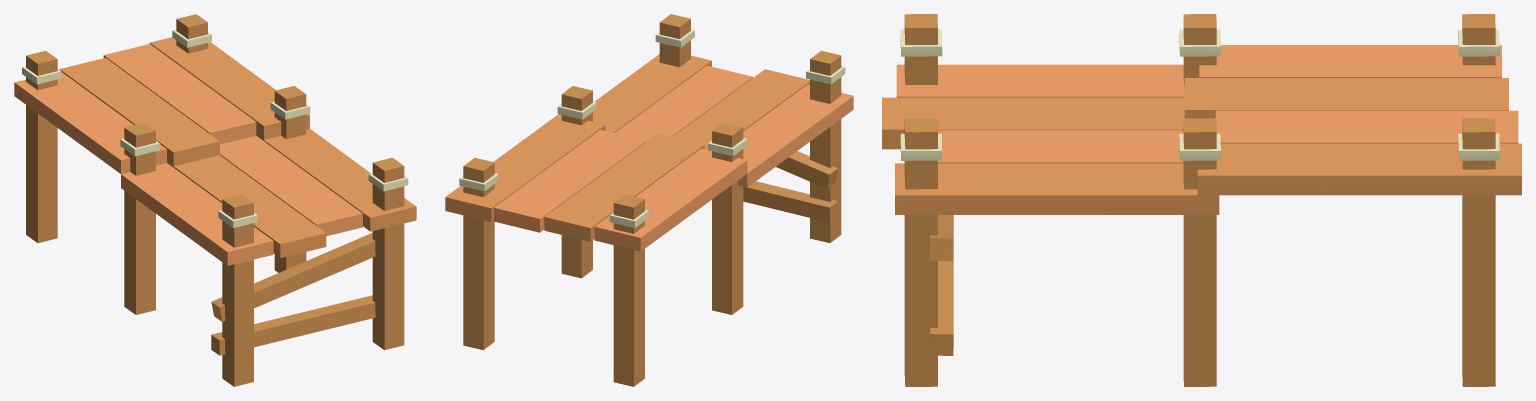
File: bridge.fbx
3 renders of one model, left to right at view 1: azimuth 30°, elevation 25°; view 2: azimuth 150°, elevation 25°; view 3: azimuth 270°, elevation 25°, orthographic. The views are drawn at different scales.
Visible parts, largest first — view 1: ST_bridge; view 2: ST_bridge; view 3: ST_bridge.
Boxes of the visible parts, left/top/right/bottom form: ST_bridge: left=14, top=14, right=416, bottom=386; ST_bridge: left=445, top=14, right=853, bottom=386; ST_bridge: left=882, top=14, right=1521, bottom=386.
Size of the model in its own units: 286 by 260 by 592.
